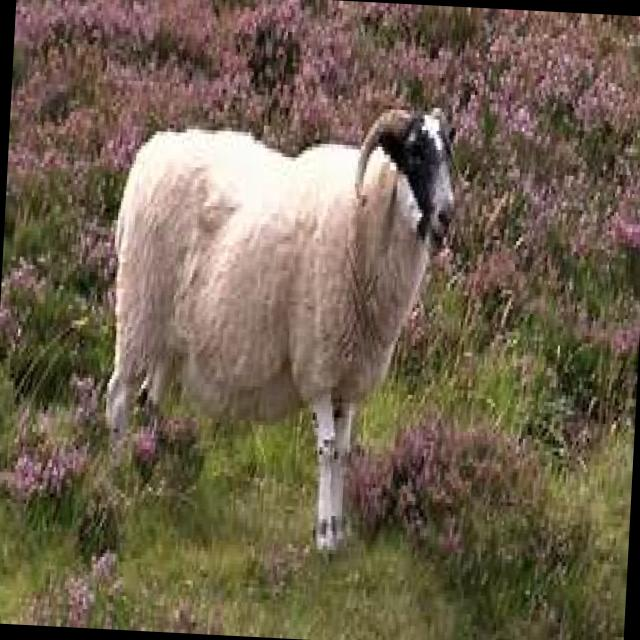sheep: (95, 88, 460, 560)
